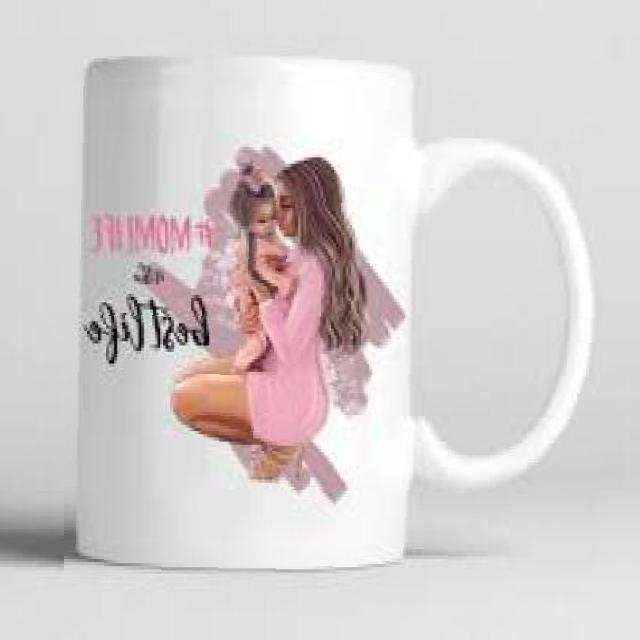cup: (63, 52, 607, 581)
